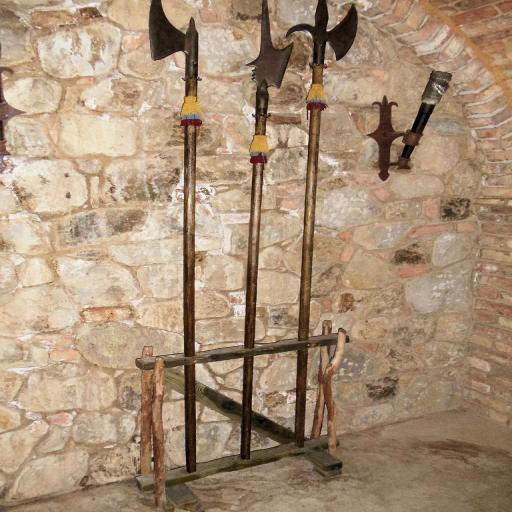Axe: (291, 0, 359, 449), (142, 0, 201, 471), (243, 0, 294, 461)
